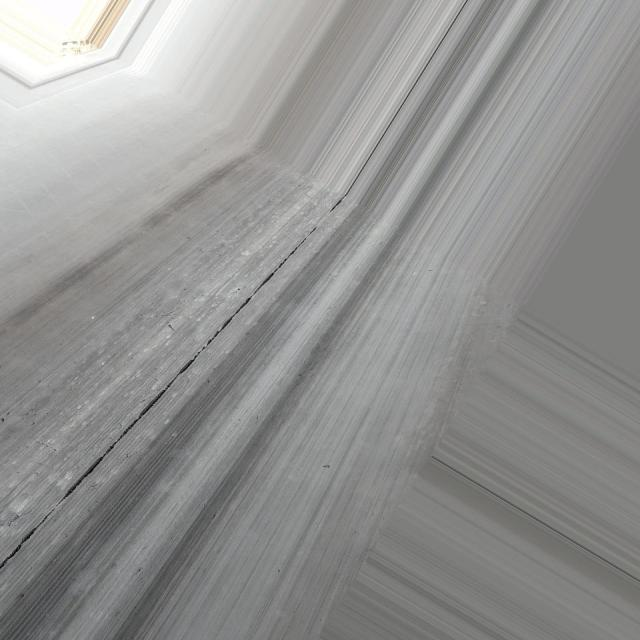Tear: (0, 0, 455, 570)
